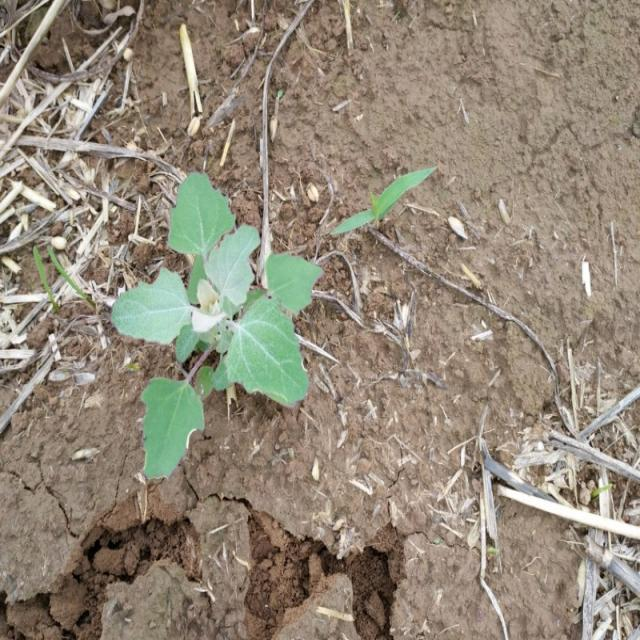goosefoots: (82, 165, 323, 475)
